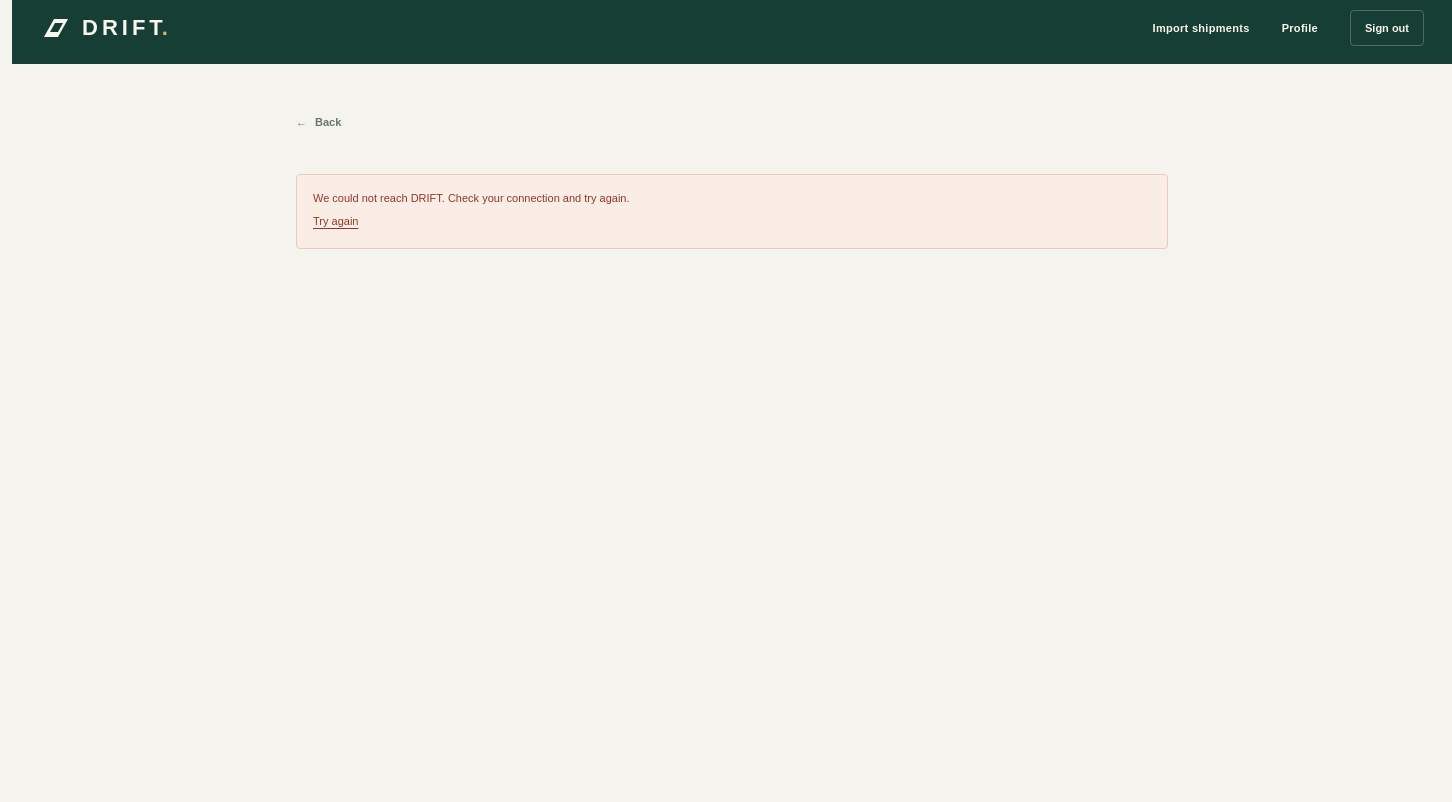
Test: connection window on the shipment detail › retries a failed detail request
Expected: the message shows "We could not reach DRIFT.", [313,192,630,204]
Click the button "Try again" at (336, 221), box [313,208,358,234]
(page scrolled)
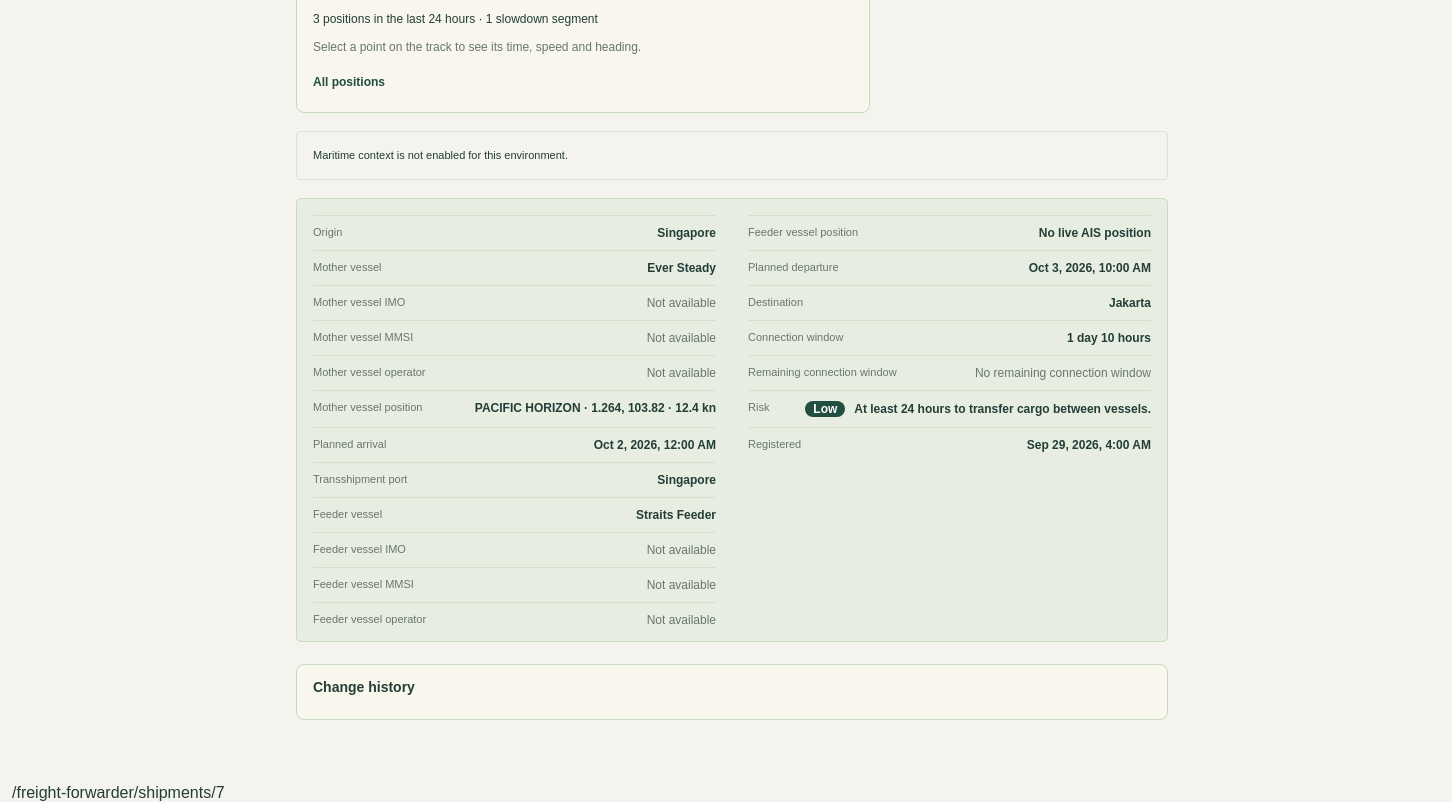
Expected: the element named "Shipment HL-1001" is shown, [296,198,1168,642]
